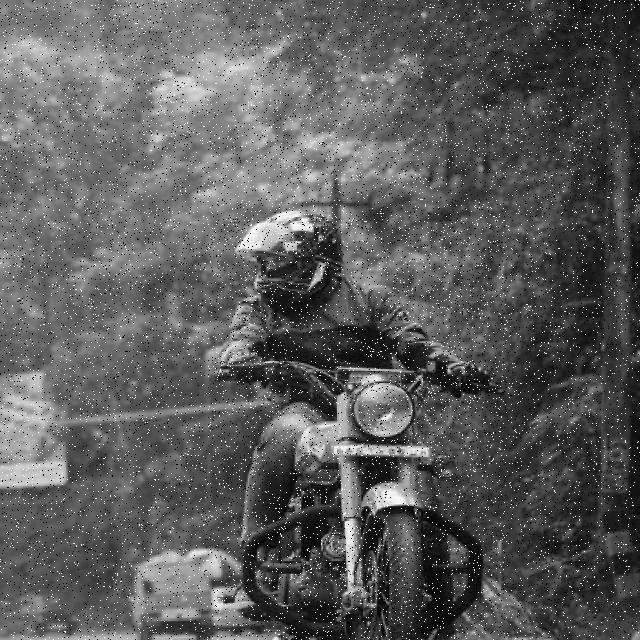Motorbike: (210, 211, 507, 640)
